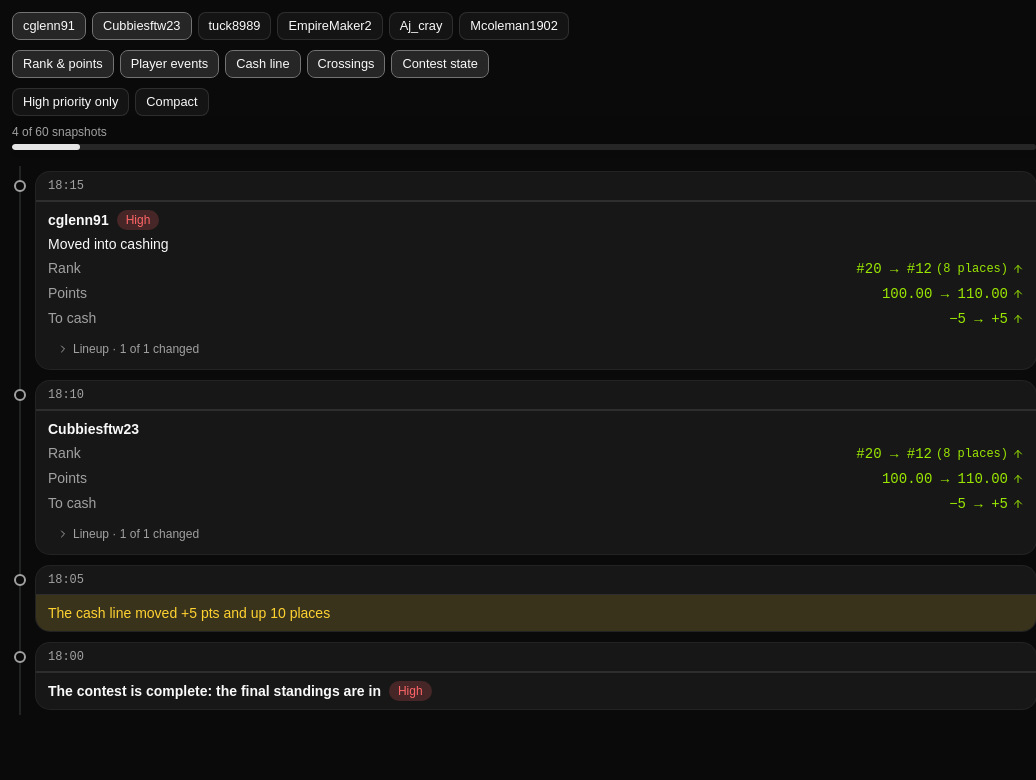
it: kind filter on the rail › hides the other parts of a mixed row behind "+N hidden", which reveals them
Click the button "Rank & points".
click(63, 64)  # box top-left (12, 50), bottom-right (114, 78)
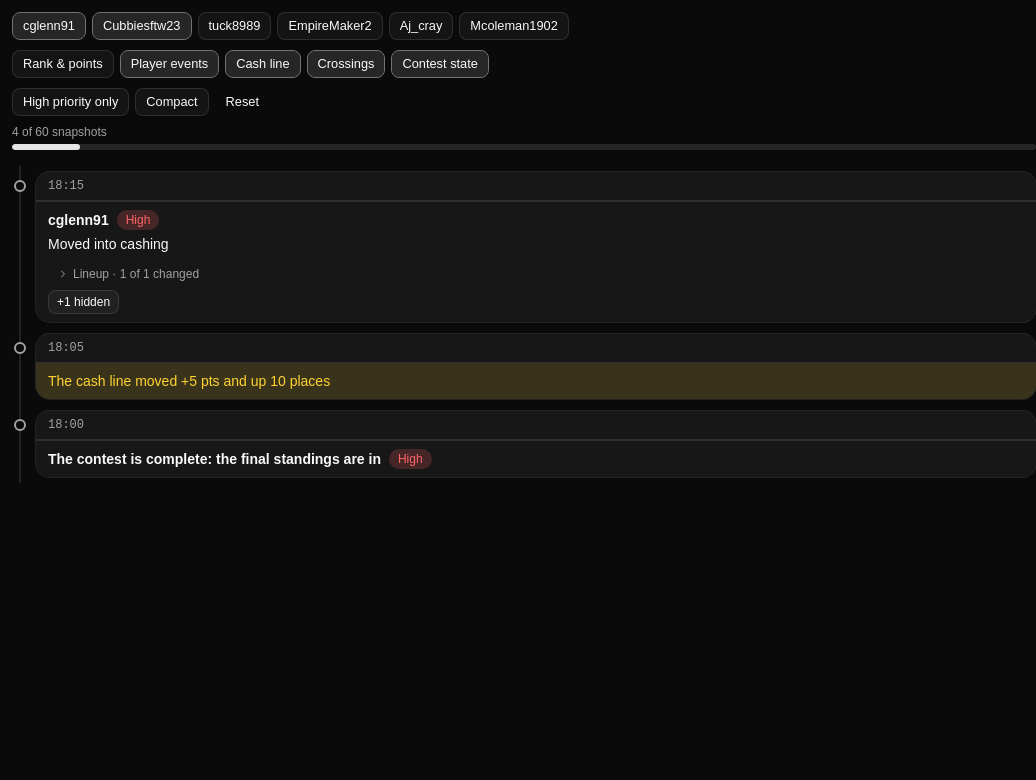
Click the button "Player events".
click(169, 64)  # box top-left (120, 50), bottom-right (219, 78)
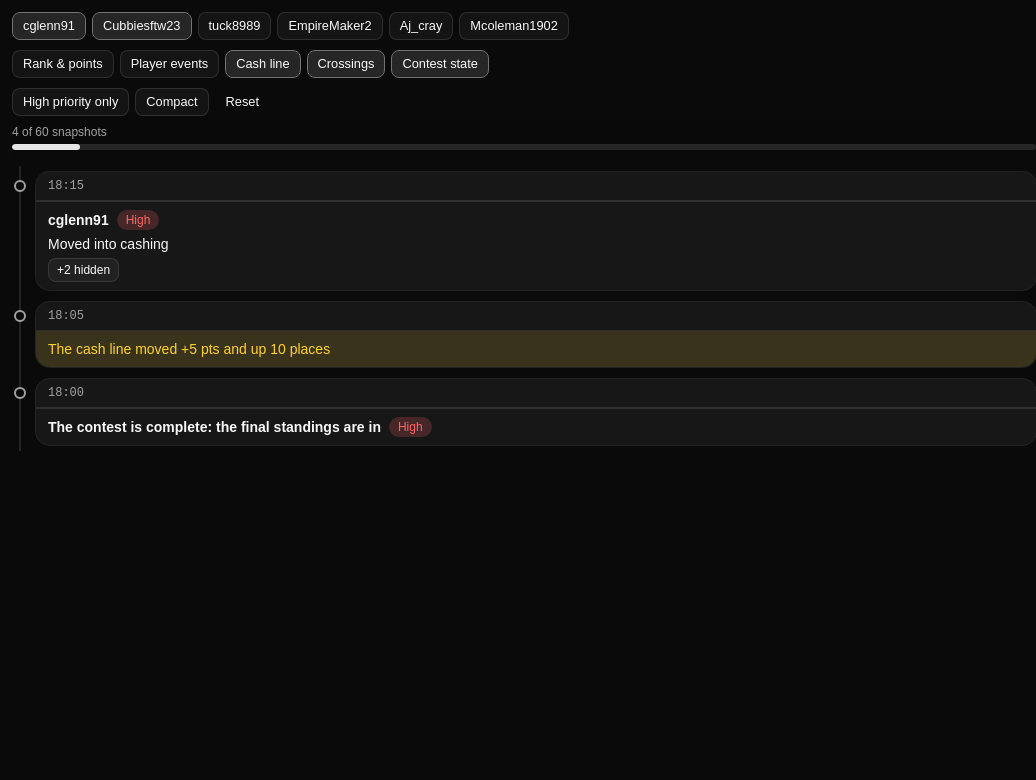
Check: the text "Moved into cashing" is shown, box top-left (48, 236), bottom-right (169, 252)
Click the button "+2 hidden".
click(84, 270)  # box top-left (48, 258), bottom-right (119, 282)
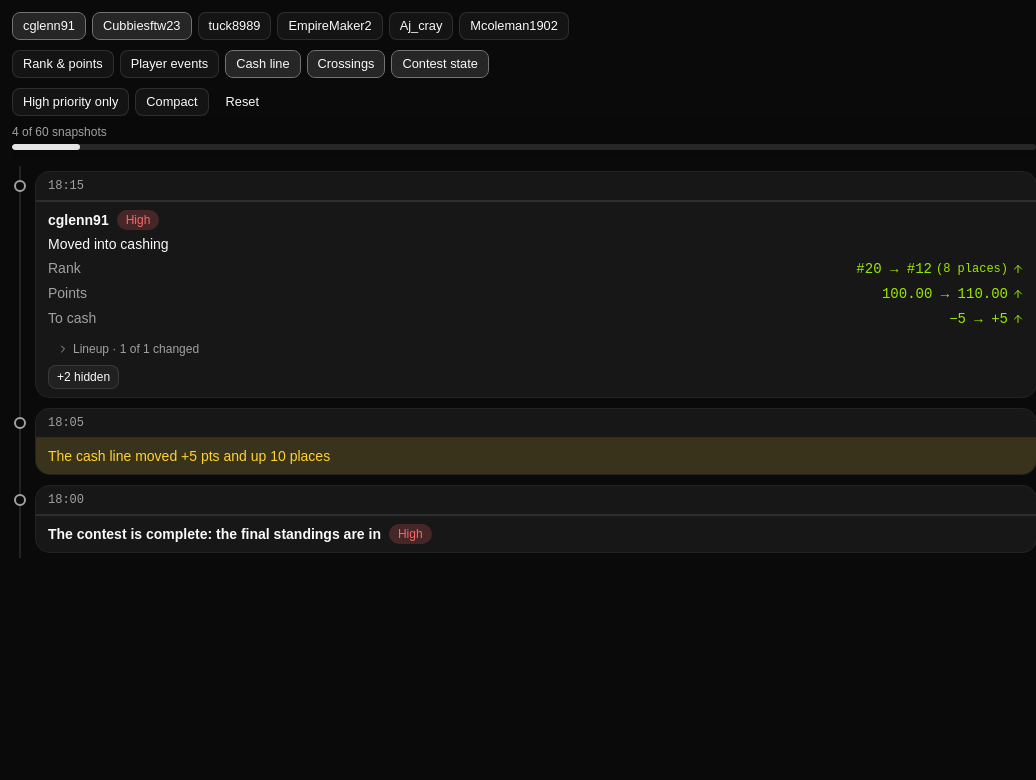
Check: the button "+2 hidden" is expanded, box top-left (48, 365), bottom-right (119, 389)
Check: the element "Rank" is shown, box top-left (48, 258), bottom-right (1024, 279)
Check: the button "Lineup · 1 of 1 changed" is shown, box top-left (48, 337), bottom-right (1024, 361)
